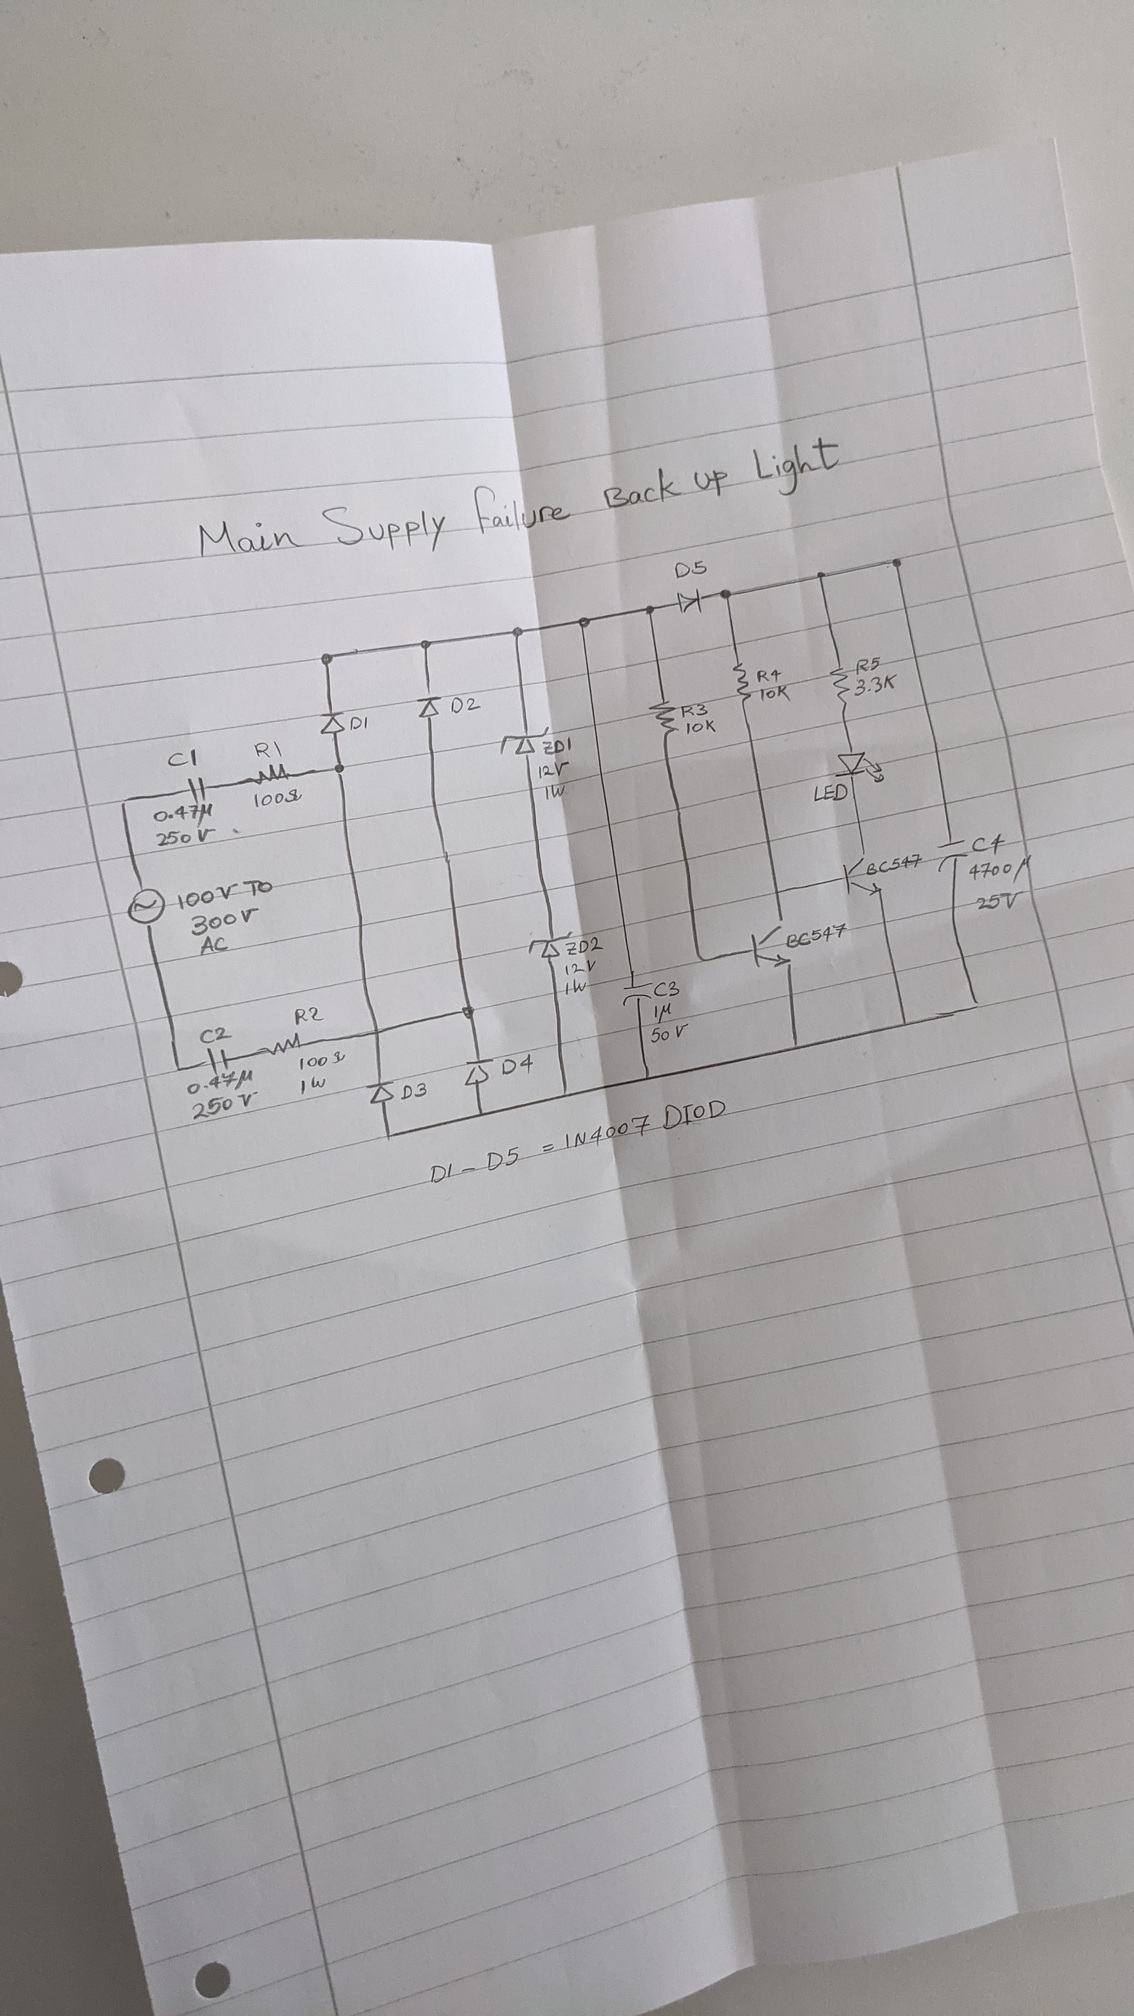capacitor.unpolarized: (933, 835, 971, 874), (619, 979, 656, 1008), (199, 1045, 237, 1073), (181, 774, 216, 803)
crossover: (368, 1025, 389, 1040)
diode: (498, 724, 552, 757), (528, 929, 575, 960), (462, 1055, 496, 1088), (413, 690, 446, 721), (674, 586, 706, 618), (363, 1079, 397, 1106), (318, 709, 348, 737)
diode.light_emitting: (834, 748, 888, 785)
junction: (460, 1002, 479, 1020), (576, 615, 594, 631), (318, 651, 335, 667), (118, 793, 134, 810), (694, 950, 710, 966), (719, 586, 734, 601), (510, 624, 526, 638), (888, 557, 904, 570), (474, 1108, 490, 1122), (382, 1128, 399, 1142), (642, 604, 658, 618), (332, 762, 348, 775), (814, 569, 831, 582), (971, 998, 984, 1012), (559, 1087, 573, 1101), (789, 1040, 804, 1052), (641, 1072, 656, 1084), (418, 638, 433, 651), (770, 886, 785, 899), (899, 1016, 911, 1030), (173, 1062, 186, 1074)
resistor: (647, 694, 681, 744), (241, 762, 296, 786), (828, 663, 853, 714), (730, 658, 755, 708), (256, 1032, 305, 1056)
text: (197, 433, 842, 559), (428, 1098, 727, 1185), (174, 876, 276, 912), (188, 906, 262, 937), (190, 1090, 260, 1122), (186, 1068, 256, 1097), (968, 854, 1033, 883), (785, 922, 849, 948), (152, 803, 215, 828), (865, 852, 924, 876), (155, 828, 216, 847), (853, 672, 899, 696), (298, 1050, 348, 1072), (975, 890, 1025, 912), (253, 788, 306, 809), (649, 1022, 690, 1045), (811, 781, 849, 804), (971, 832, 1007, 856), (165, 745, 199, 768), (500, 1052, 534, 1076), (565, 935, 604, 955), (198, 935, 231, 958), (292, 1004, 325, 1027), (198, 1025, 234, 1045), (541, 735, 575, 756), (298, 1074, 328, 1097), (673, 559, 708, 579), (536, 760, 570, 780), (759, 684, 793, 703), (399, 1081, 431, 1101), (564, 958, 597, 976), (449, 696, 482, 714), (685, 719, 719, 737), (854, 654, 881, 676), (654, 979, 681, 1000), (252, 739, 284, 757), (755, 667, 784, 684), (654, 1001, 673, 1025), (564, 978, 588, 996), (544, 782, 568, 800), (680, 703, 708, 719), (348, 714, 370, 732)
transistor: (748, 917, 795, 971), (839, 850, 883, 899)
voltage.dc_ac: (125, 883, 168, 929)
